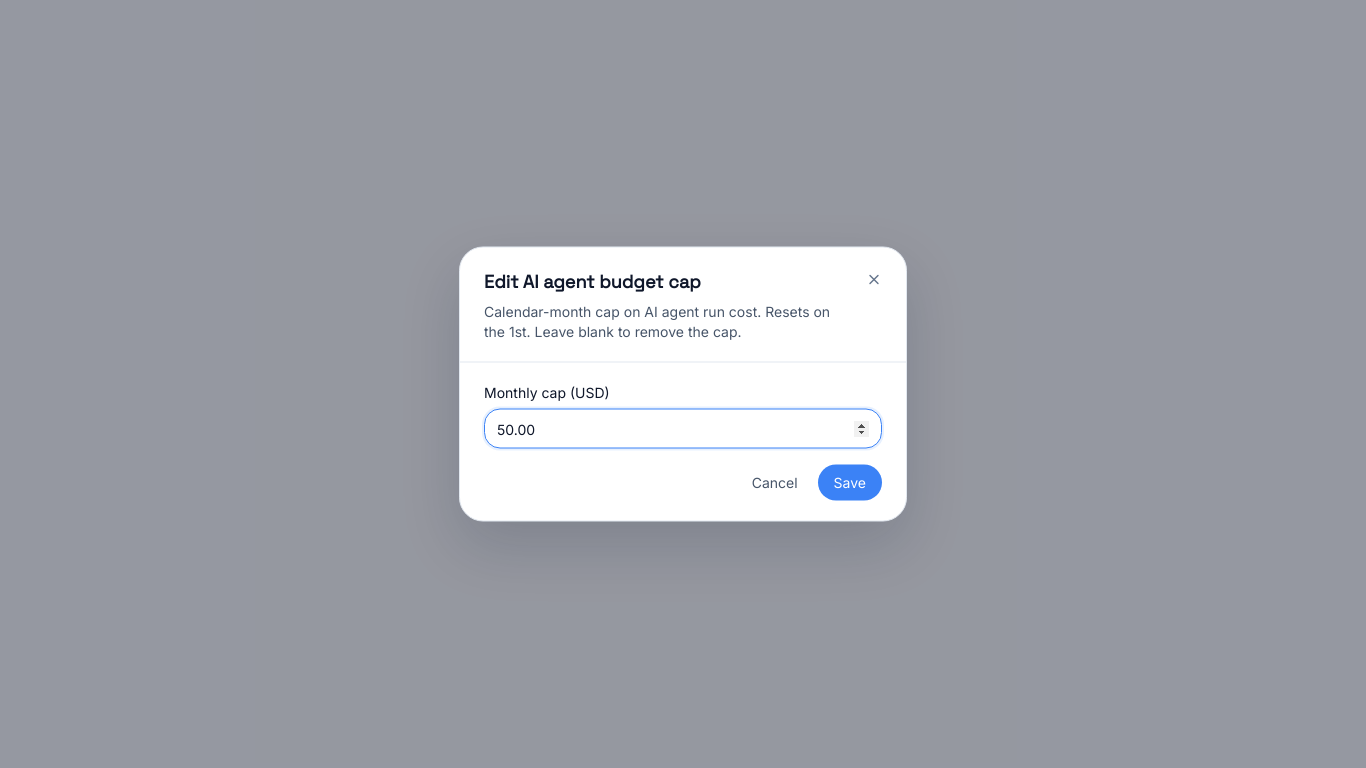
Test: <EditOrgBudgetCapDialog> › rejects values above $999,999.99 inline
This screenshot has width=1366, height=768.
Type "1000000" into the number field with test id "edit-org-budget-cap-input" at [683, 428], box [484,408,882,448]
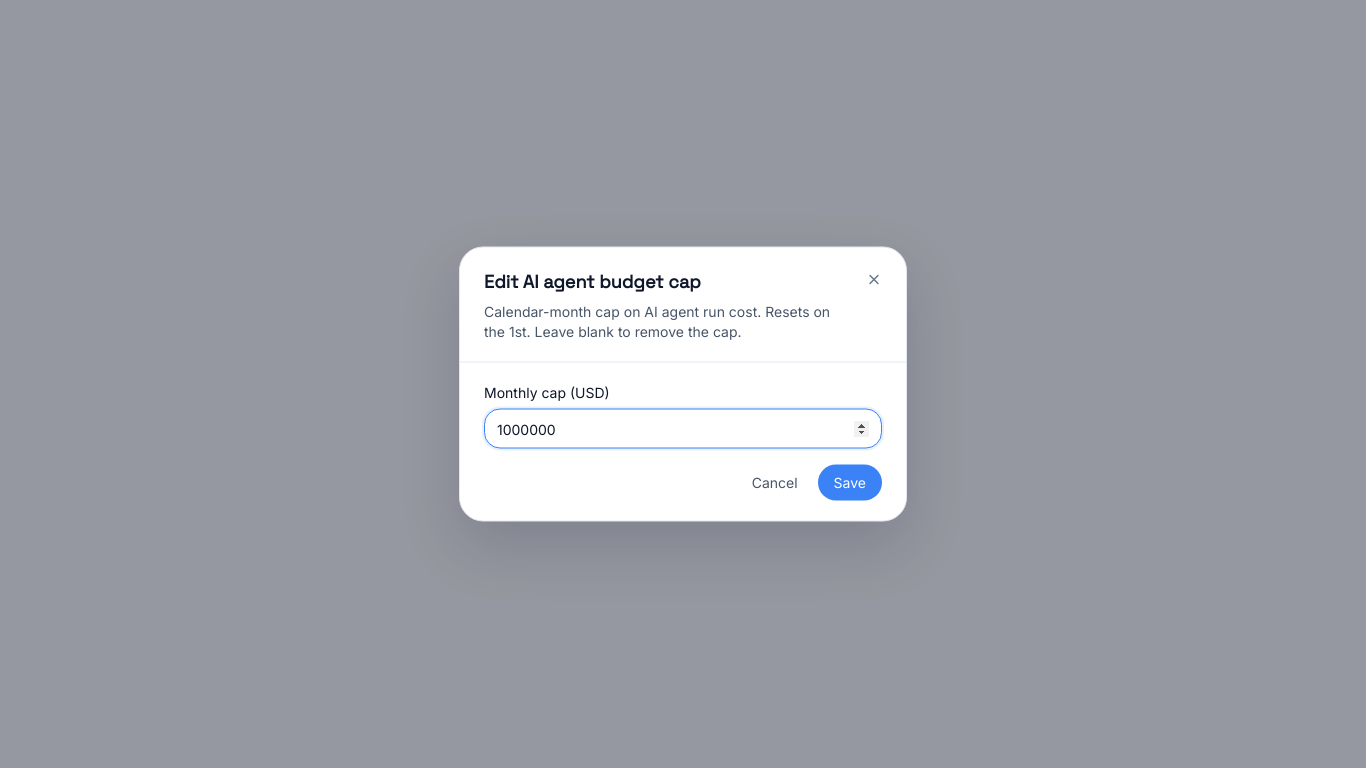
Click the button with test id "edit-org-budget-cap-save" at [850, 482], box [818,464,882,500]
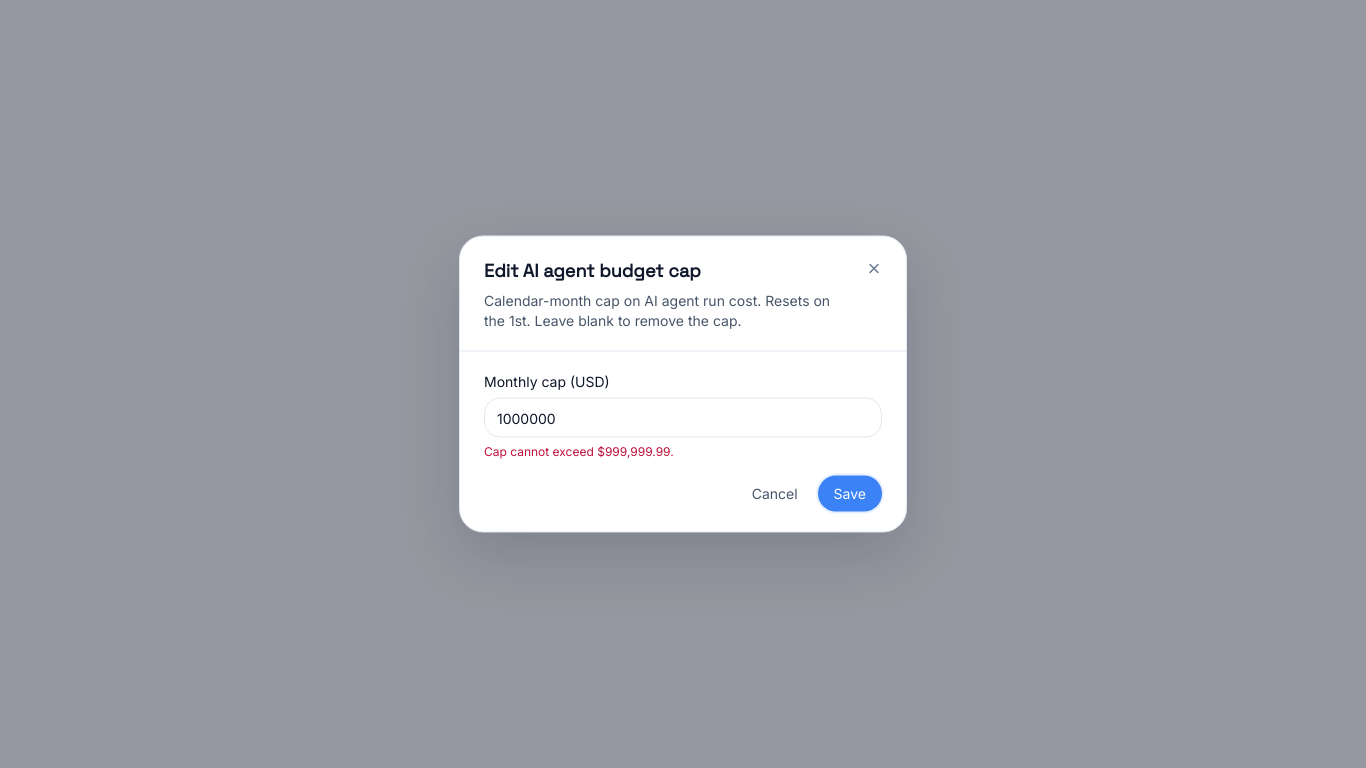
Now the message shows "cannot exceed", box [484,444,674,458]
